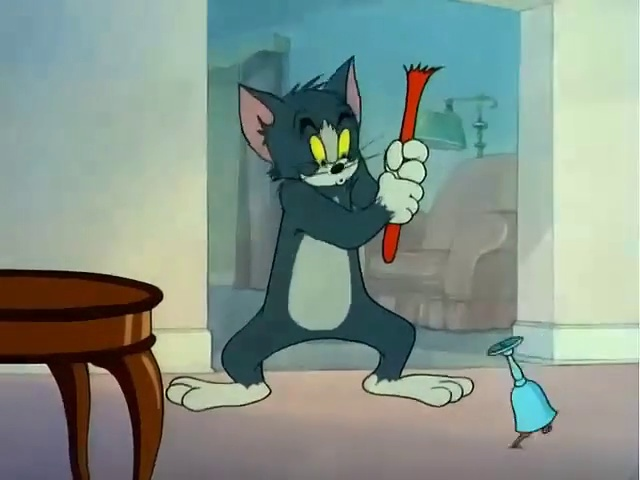tom: (168, 24, 493, 420)
